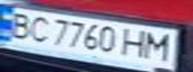0: (96, 24, 121, 55)
6: (81, 21, 103, 53)
7: (45, 16, 72, 47), (63, 19, 84, 49)
B: (3, 9, 36, 39)
C: (24, 14, 54, 43)
H: (121, 26, 151, 60)
M: (142, 29, 178, 62)
